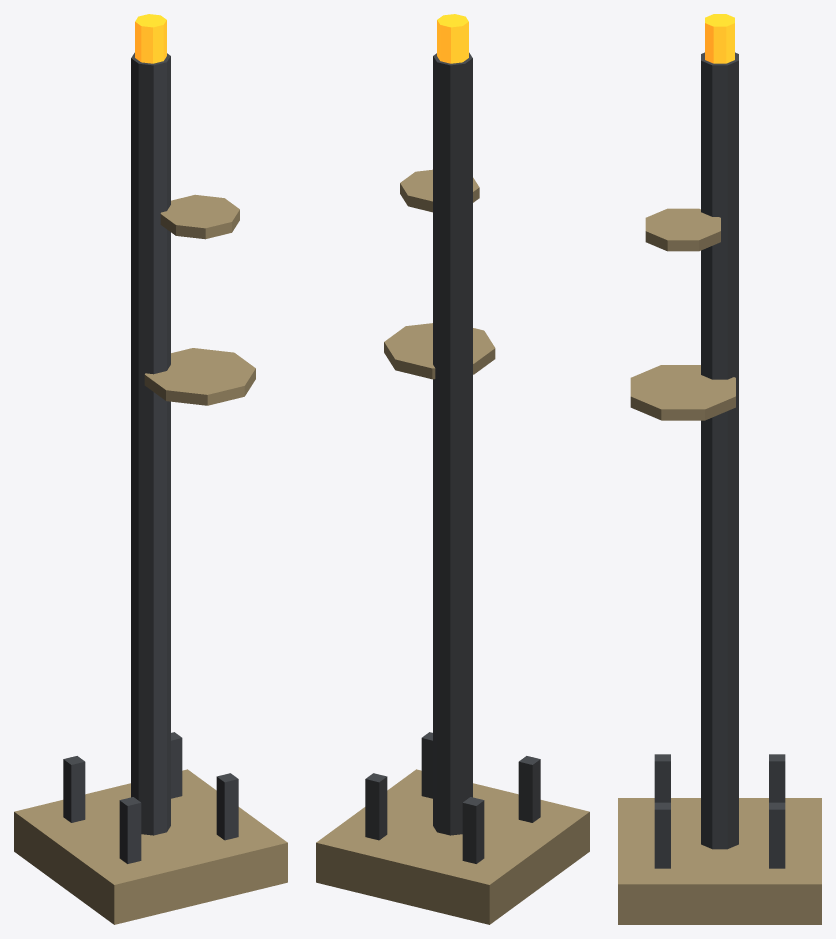
Rendered from shaddai_dist_desert_b4_v01.glb.
3 renders of one model, left to right at view 1: azimuth 30°, elevation 25°; view 2: azimuth 150°, elevation 25°; view 3: azimuth 270°, elevation 25°, orthographic.
Visible parts, largest first — view 1: shaddai_dist_desert_b4; view 2: shaddai_dist_desert_b4; view 3: shaddai_dist_desert_b4.
Part boxes in pixels (x1,y1,x2,y2): shaddai_dist_desert_b4: [14, 14, 287, 924]; shaddai_dist_desert_b4: [316, 14, 589, 924]; shaddai_dist_desert_b4: [618, 14, 821, 924].
Bounding box in the file's own units: 5 × 23.3 × 5.
